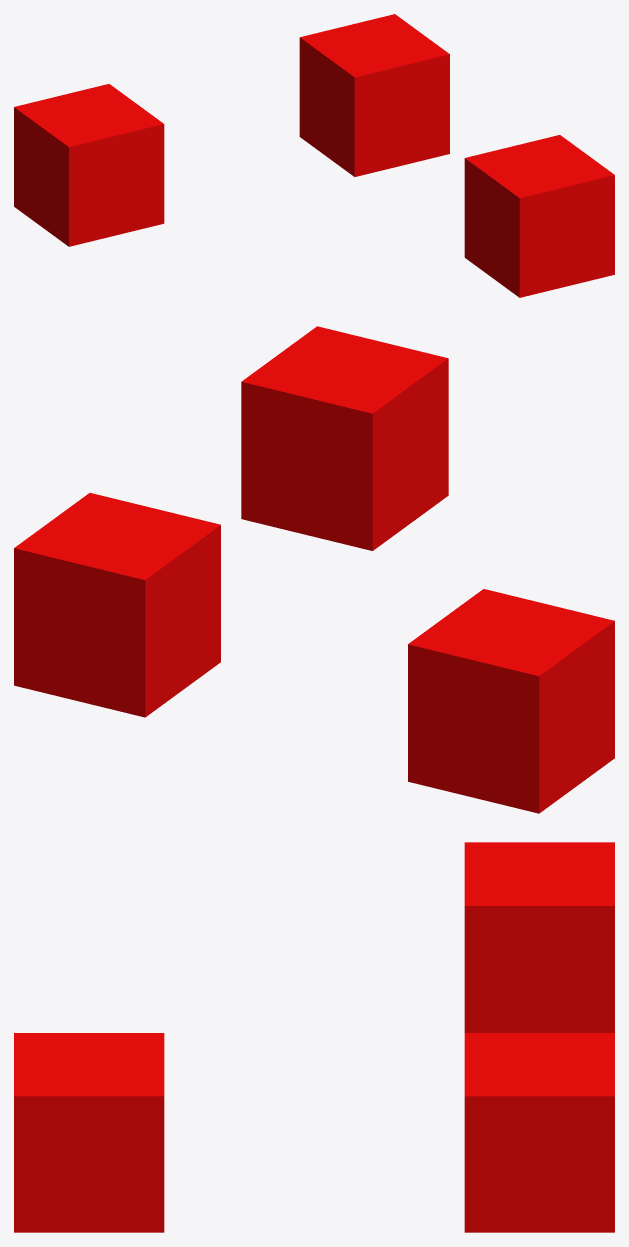
The picture shows the model from 3 angles, top to bottom: view 1: azimuth 30°, elevation 25°; view 2: azimuth 150°, elevation 25°; view 3: azimuth 270°, elevation 25°; orthographic projection. The views are drawn at different scales.
Parts seen in each view (by area): view 1: cube_component (×9); view 2: cube_component (×6); view 3: cube_component (×3).
Boxes of the visible parts, x1,y1,x2,y2 form: cube_component (×9): [14, 14, 614, 297]; cube_component (×6): [14, 326, 614, 813]; cube_component (×3): [14, 842, 614, 1232].
Bounding box in the file's own units: 157 × 157 × 39.37.
